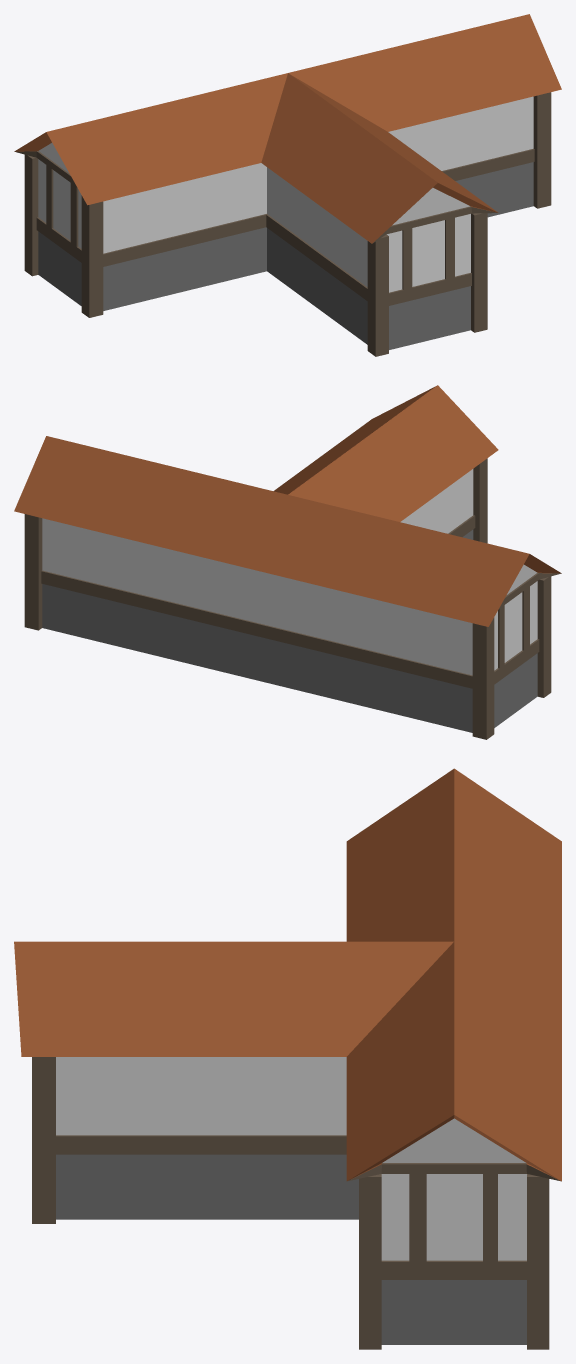
Rendered from Building1Test.fbx.
3 views of the same model, one above another, from view 1: azimuth 30°, elevation 25°; view 2: azimuth 150°, elevation 25°; view 3: azimuth 270°, elevation 25° (orthographic). The views are drawn at different scales.
Visible parts, largest first — view 1: Cube; view 2: Cube; view 3: Cube.
Part boxes in pixels (box(x1,y1,x2,y2)): Cube: box(14, 14, 561, 356); Cube: box(14, 385, 561, 739); Cube: box(14, 768, 561, 1349).
Size of the model in its own units: 862 by 281 by 576.
